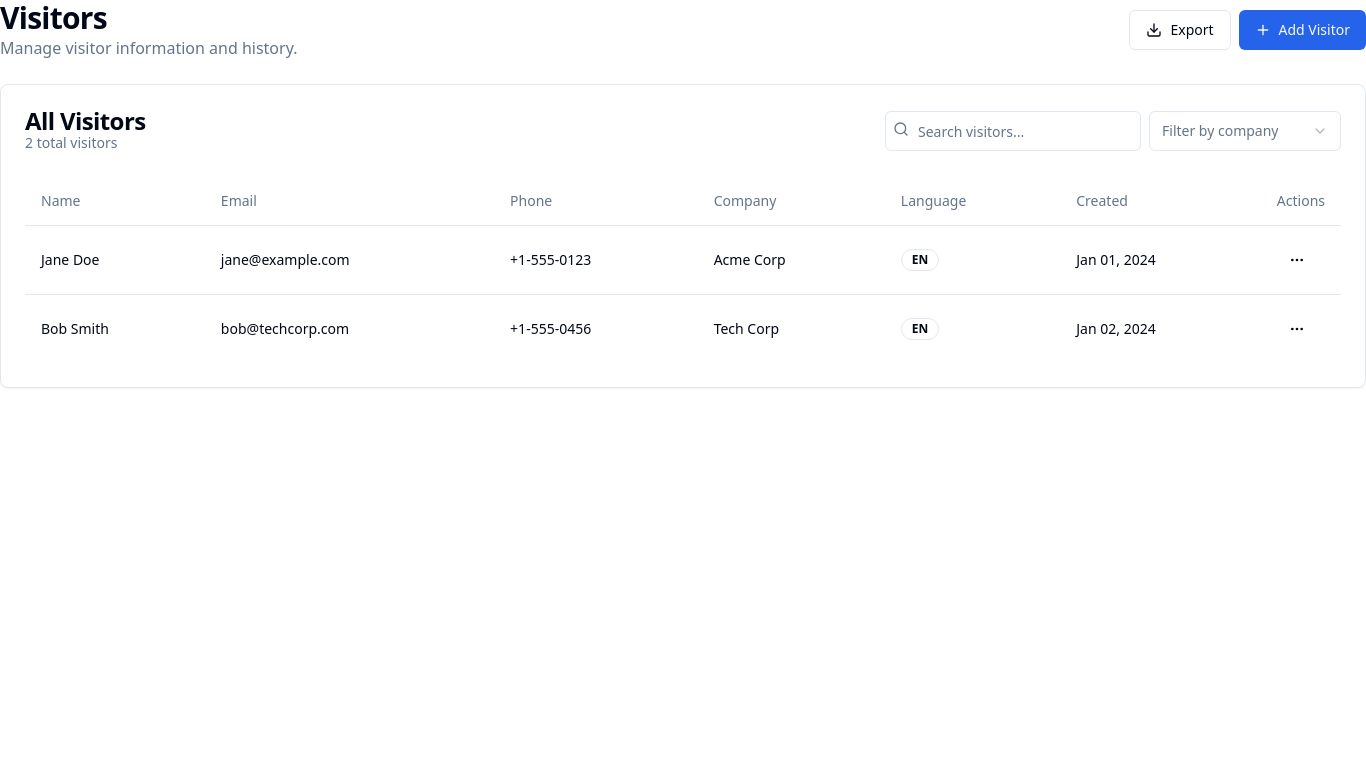
Scenario: VisitorsPage › validates required fields in create form
// Open create dialog
Click the button "Add Visitor".
click(1302, 30)  # box [1238,10,1365,50]
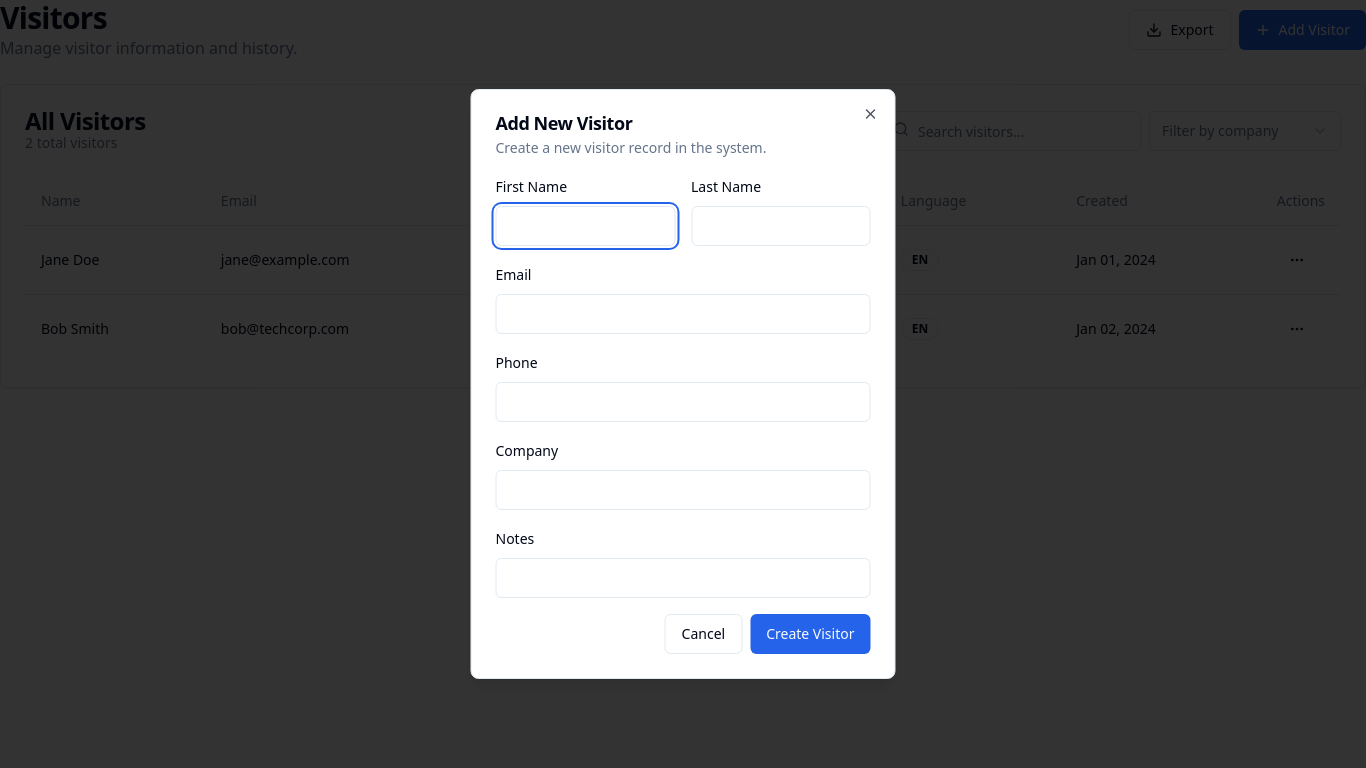
// Try to submit without required fields
Click the button "Create Visitor".
click(810, 634)  # box [750,614,870,654]
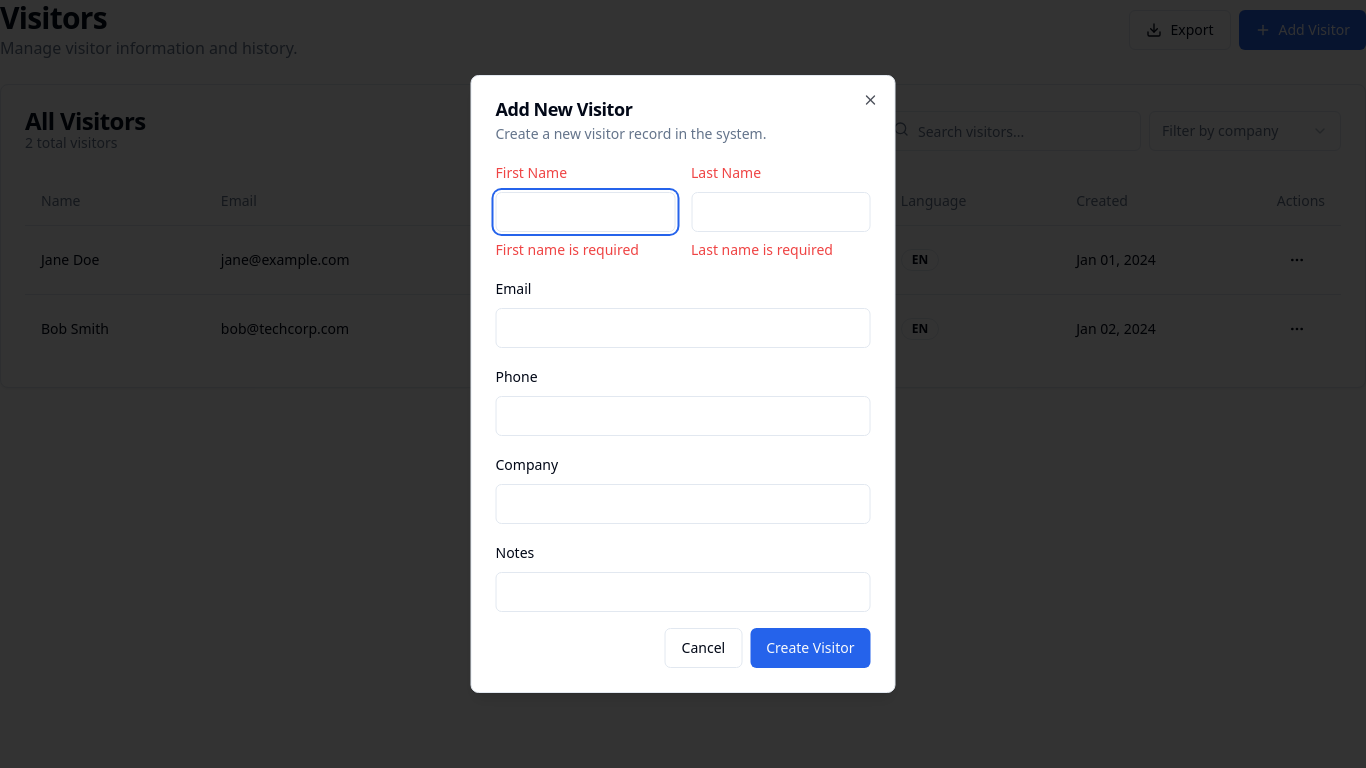
Now the text "First name is required" is shown, box [496,240,639,259]
Now the text "Last name is required" is shown, box [691,240,833,259]
